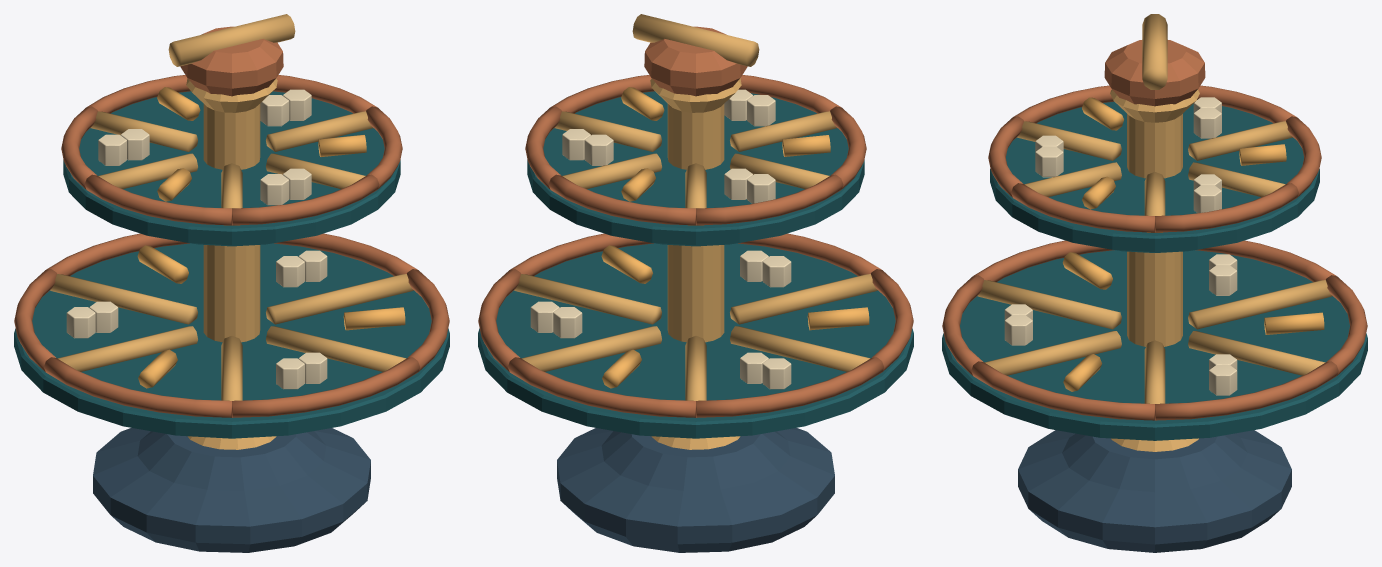
3 renders of one model, left to right at view 1: azimuth 30°, elevation 25°; view 2: azimuth 150°, elevation 25°; view 3: azimuth 270°, elevation 25°, orthographic. The views are drawn at different scales.
Parts seen in each view (by area): view 1: PR019 workshop assembly; view 2: PR019 workshop assembly; view 3: PR019 workshop assembly.
Boxes of the visible parts, box(x1,y1,x2,y2) form: PR019 workshop assembly: box(14, 14, 449, 552); PR019 workshop assembly: box(478, 14, 913, 552); PR019 workshop assembly: box(942, 14, 1367, 552).
Bounding box in the file's own units: 0.87 × 1.04 × 0.87.
